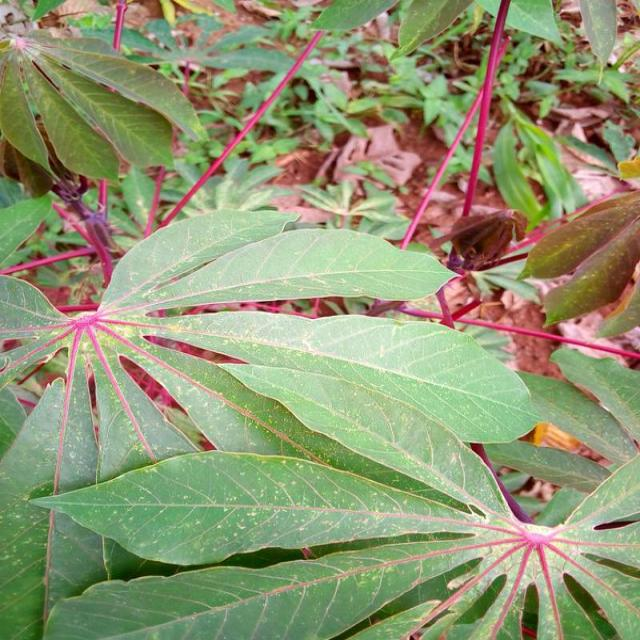cassava leaf: (99, 210, 464, 317)
